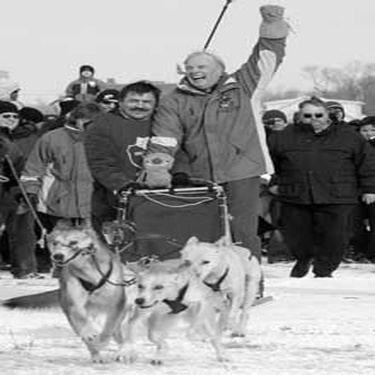dog: (30, 213, 145, 371), (113, 235, 219, 370), (168, 225, 264, 344)
